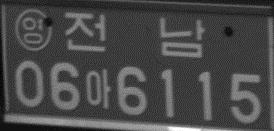0: (14, 60, 44, 107)
1: (190, 70, 223, 121), (153, 67, 184, 117)
5: (229, 72, 262, 124)
6: (115, 64, 148, 116), (49, 61, 79, 111)
아: (84, 68, 112, 110)
영: (14, 9, 53, 52)
전남_D: (63, 11, 205, 59)
